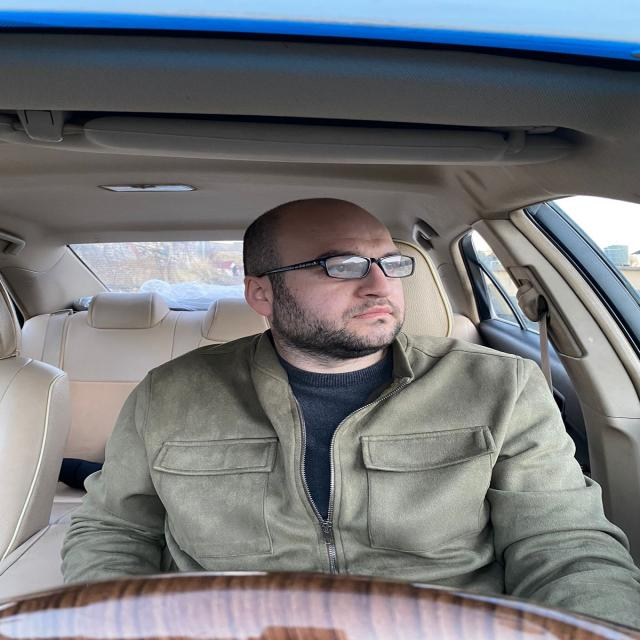LeftRight: (233, 196, 426, 372)
